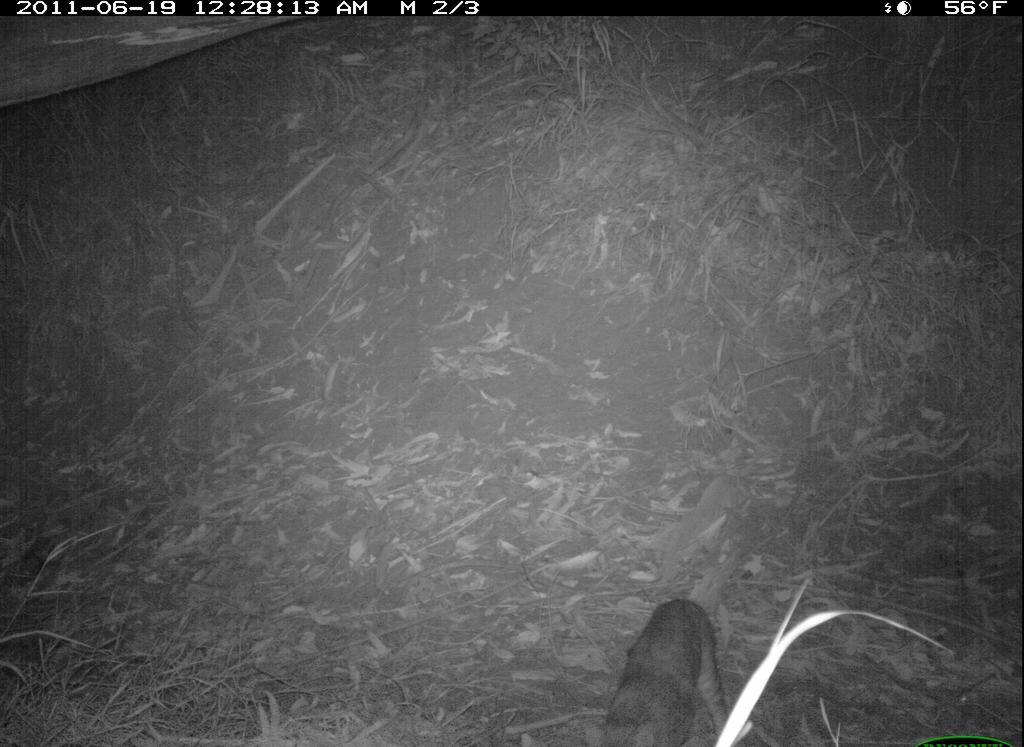cat: (589, 592, 752, 747)
